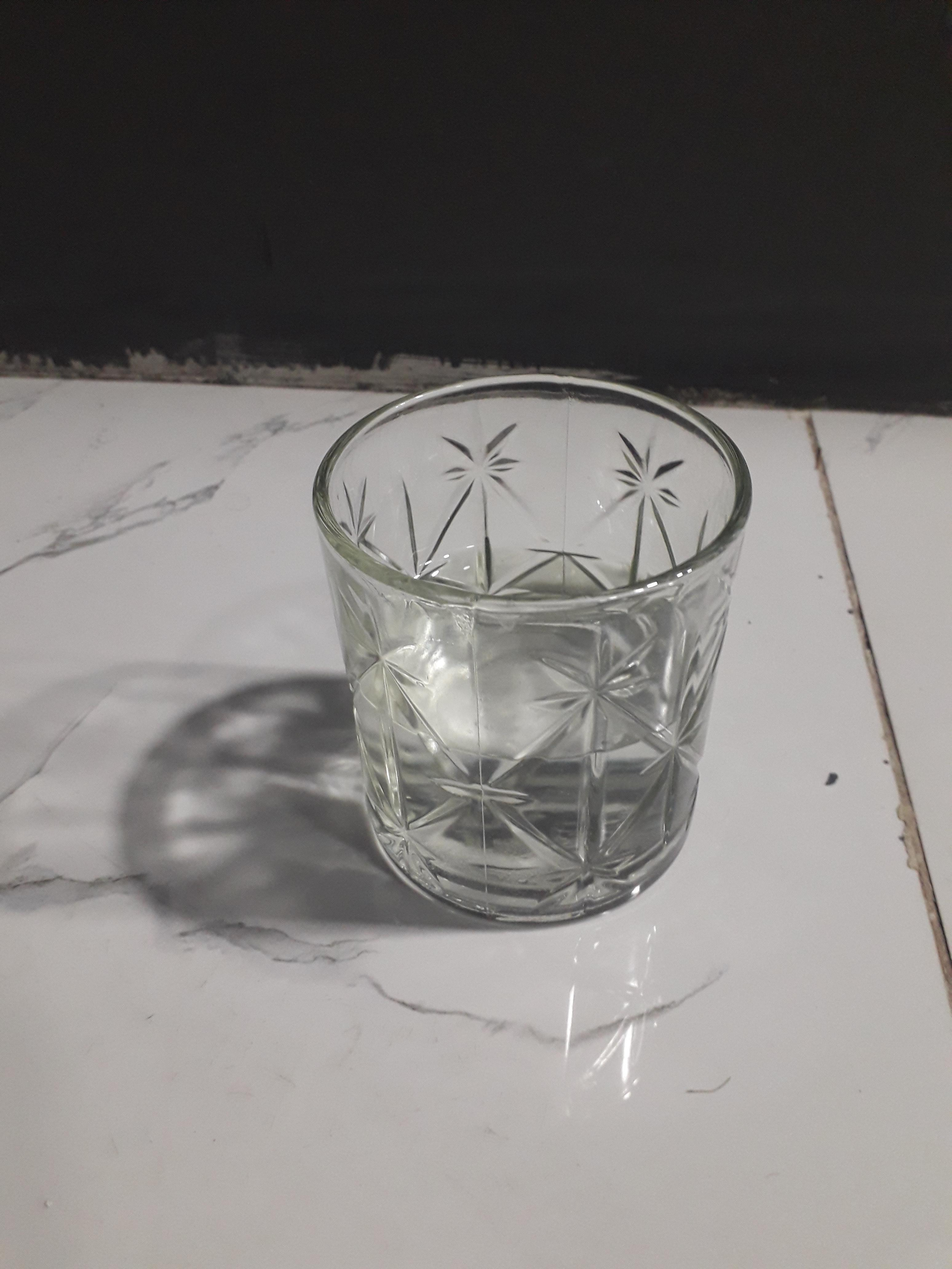glass-normal: (303, 359, 761, 928)
